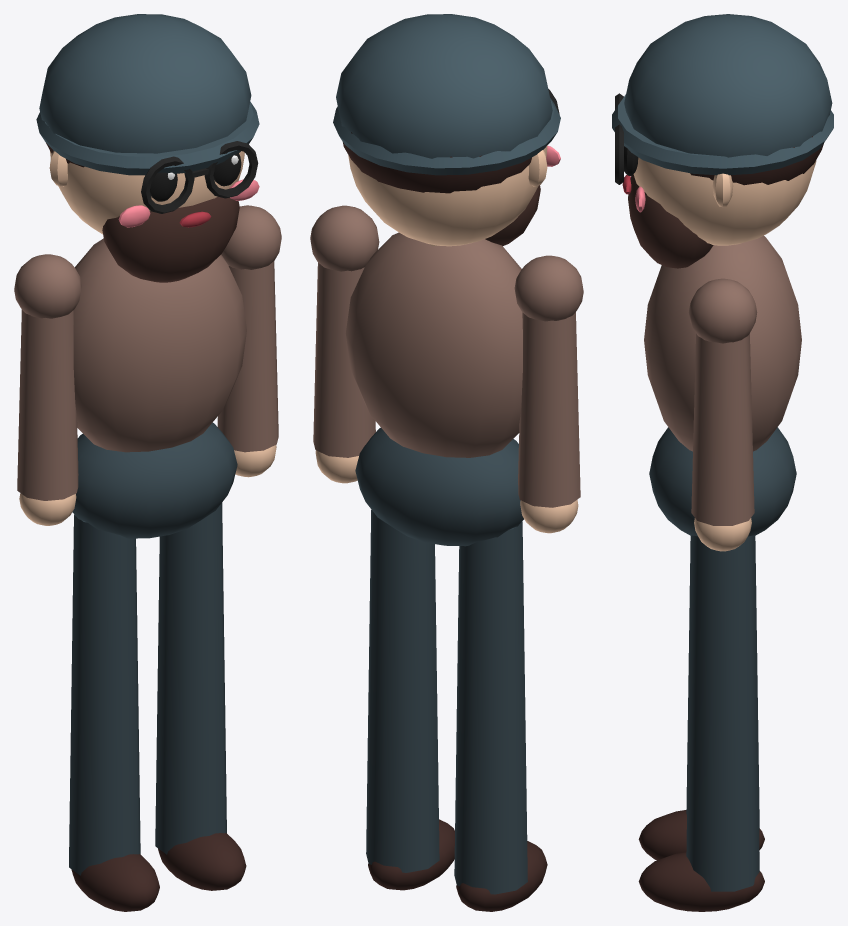
The model's file is cameos_hipster.glb.
3 renders of one model, left to right at view 1: azimuth 30°, elevation 25°; view 2: azimuth 150°, elevation 25°; view 3: azimuth 270°, elevation 25°, orthographic. The views are drawn at different scales.
Parts seen in each view (by area): view 1: Body.014, CameosHipsterExtra, Leg_R.014, Leg_L.014, Arm_R.014, Arm_L.014; view 2: Body.014, CameosHipsterExtra, Leg_R.014, Leg_L.014, Arm_R.014, Arm_L.014; view 3: Body.014, CameosHipsterExtra, Leg_L.014, Arm_L.014, Leg_R.014.
Part boxes in pixels (x1,y1,x2,y2): Body.014: (46,141,259,538); CameosHipsterExtra: (36,14,259,175); Leg_R.014: (69,514,159,911); Leg_L.014: (155,502,246,890); Arm_R.014: (14,254,81,525); Arm_L.014: (217,205,281,477); Body.014: (343,89,560,546); CameosHipsterExtra: (333,14,560,175); Leg_R.014: (454,521,547,911); Leg_L.014: (366,510,454,890); Arm_R.014: (514,255,583,533); Arm_L.014: (310,205,379,483); Body.014: (615,93,823,536); CameosHipsterExtra: (612,14,833,175); Leg_L.014: (638,535,764,911); Arm_L.014: (688,278,757,551); Leg_R.014: (638,536,764,860).
Bounding box in the file's own units: 0.57 × 1.8 × 0.4213.
